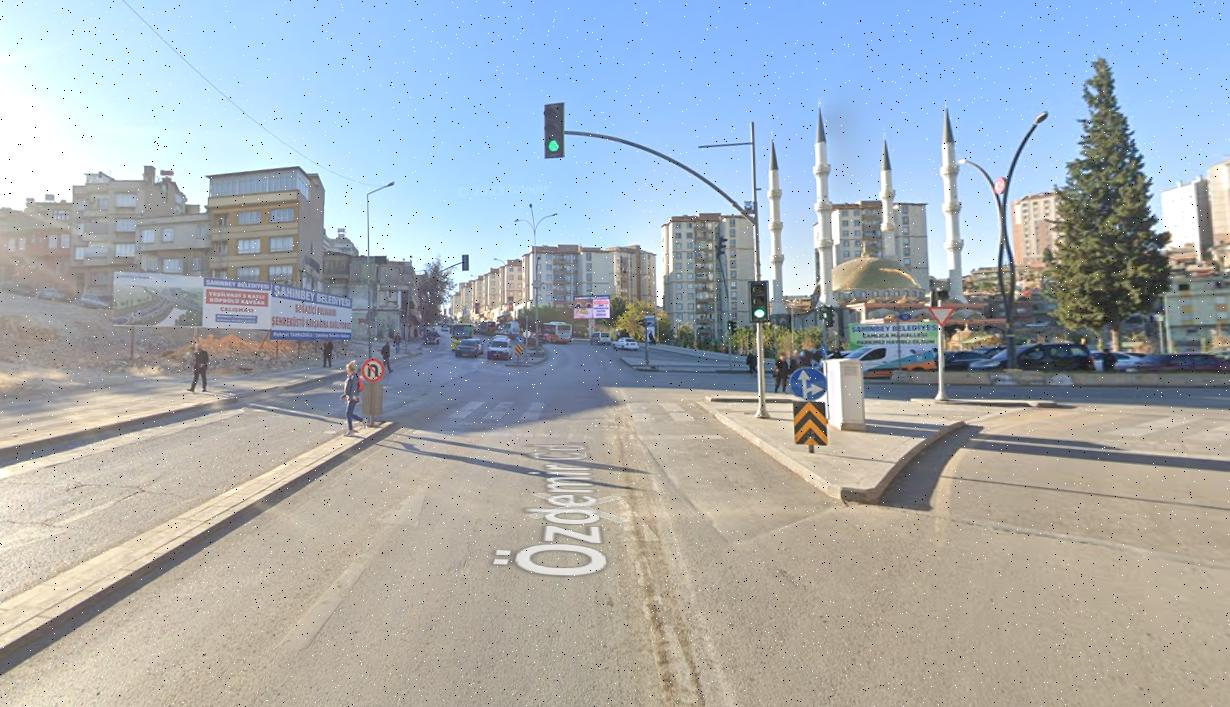greenlight: (545, 104, 564, 156), (748, 280, 767, 319)
